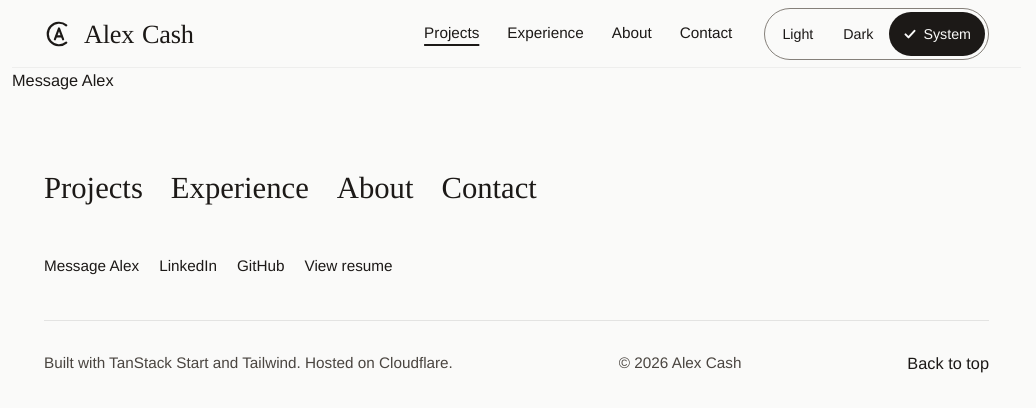
Test case: Message Alex across routes › focuses the Name field on arrival, not the page heading
What coordinates should you click on to do the following:
click the 1st link "Message Alex"
I would click on:
 (63, 80)
Its box is x1=12 y1=71 x2=114 y2=89.
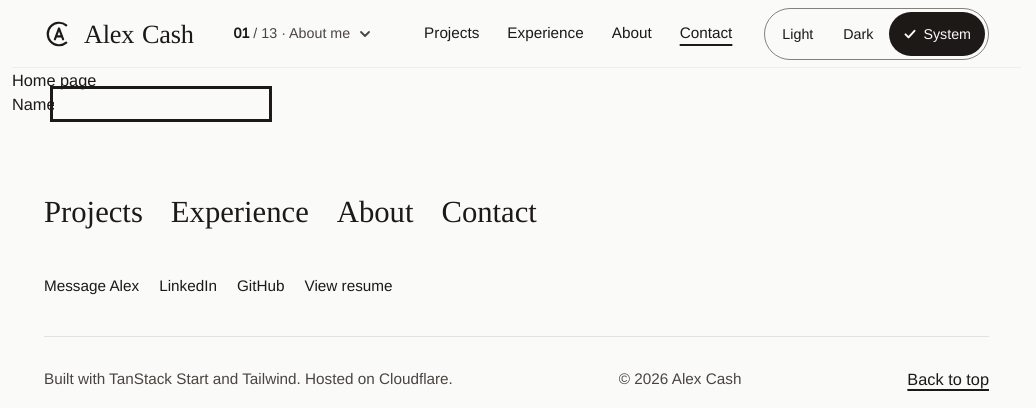
Check: the heading "Home page" is shown, box x1=12 y1=71 x2=96 y2=89
